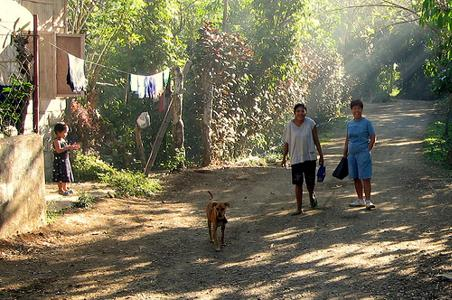person: (282, 103, 323, 216)
